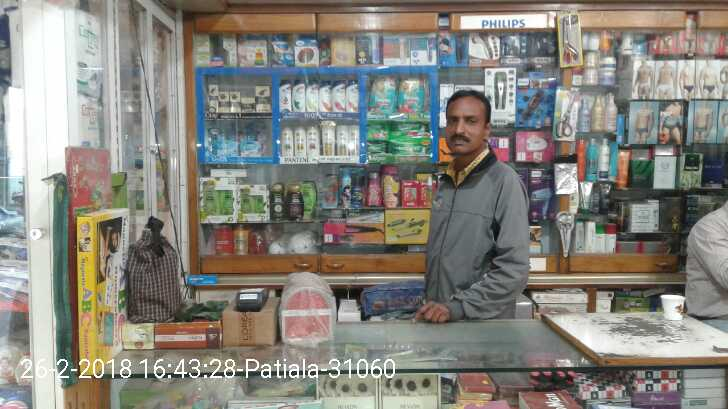venus: (241, 124, 266, 155), (206, 127, 226, 155)
